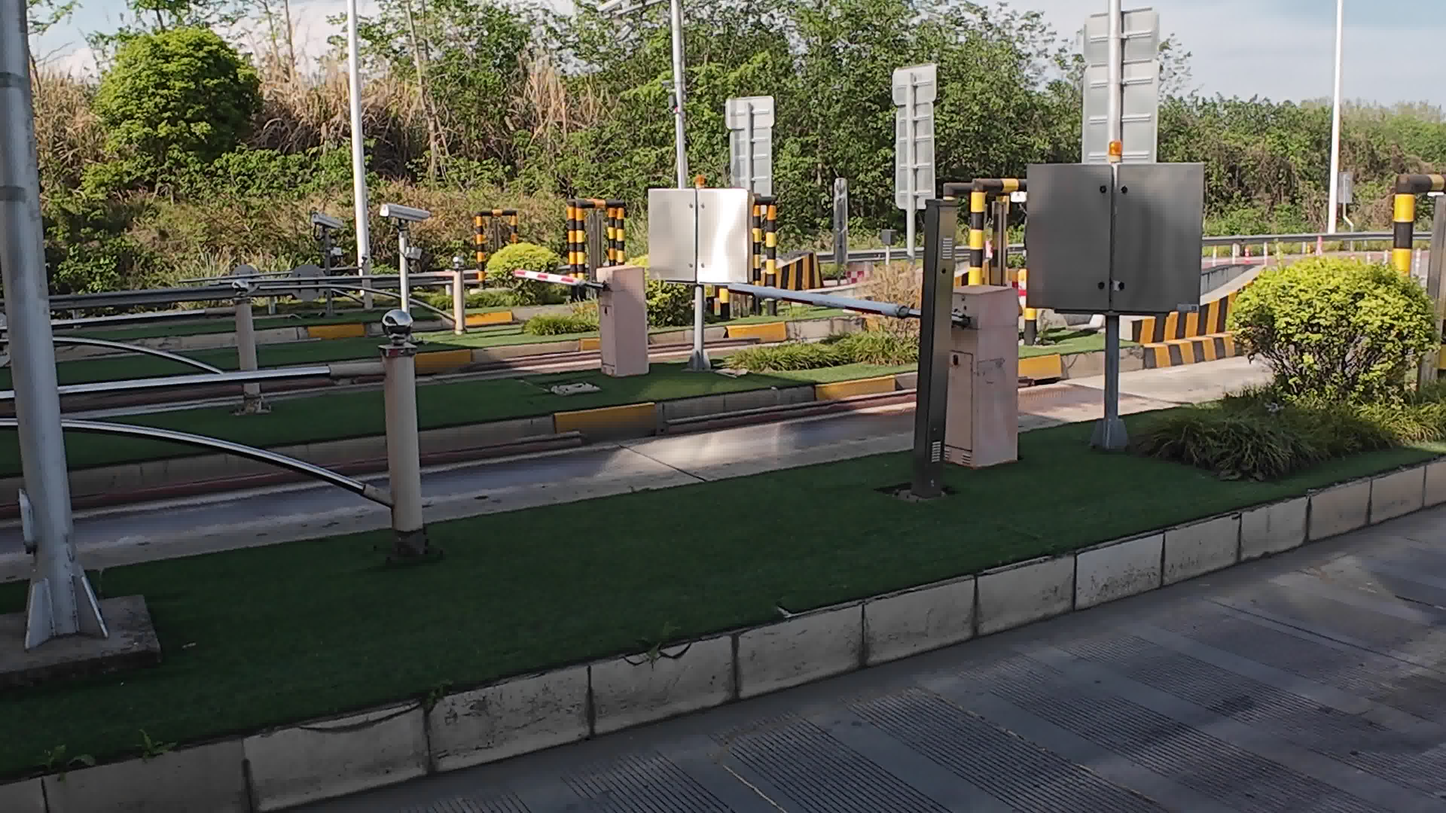led_screen: (1024, 158, 1206, 304), (642, 194, 748, 281)
roadside_plant: (688, 5, 1079, 202), (344, 11, 668, 247), (1213, 254, 1446, 419), (1182, 96, 1324, 233), (1344, 90, 1446, 175), (617, 252, 700, 311), (483, 251, 569, 287)
warning_sign: (27, 37, 340, 265), (1084, 16, 1173, 161), (721, 278, 924, 322), (888, 68, 948, 199), (707, 90, 778, 191), (516, 262, 576, 287)
